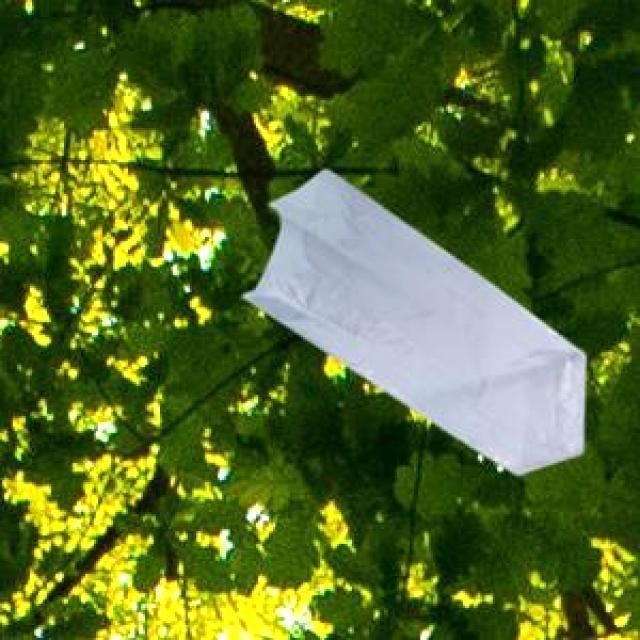Plastic_Bag: (240, 168, 584, 472)
